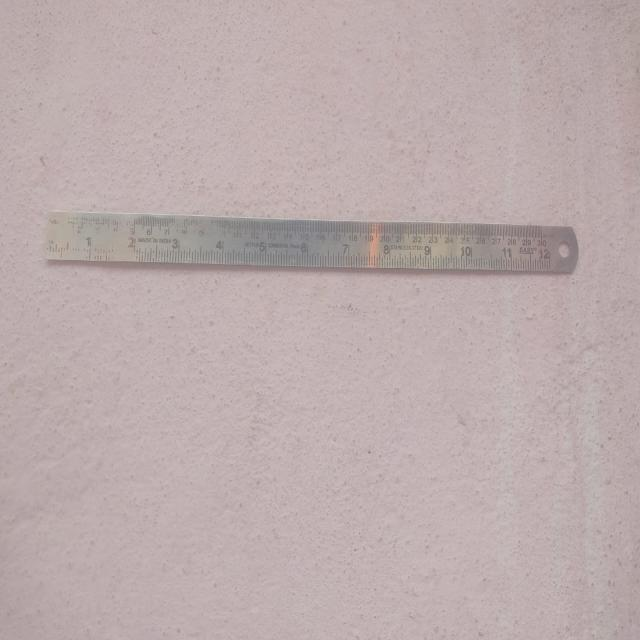scale: (49, 210, 578, 275)
